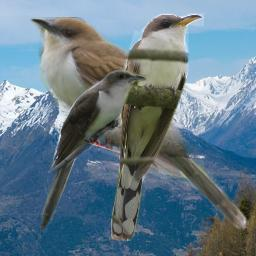Cuckoo: (29, 17, 249, 231), (111, 13, 204, 241), (35, 67, 147, 234)
